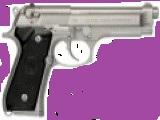gun: (1, 1, 160, 114)
